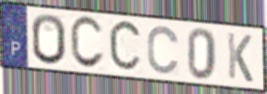0: (185, 26, 218, 81)
C: (68, 15, 106, 72), (107, 18, 144, 75), (146, 24, 181, 76)
K: (226, 31, 255, 85)
O: (30, 12, 68, 66)
